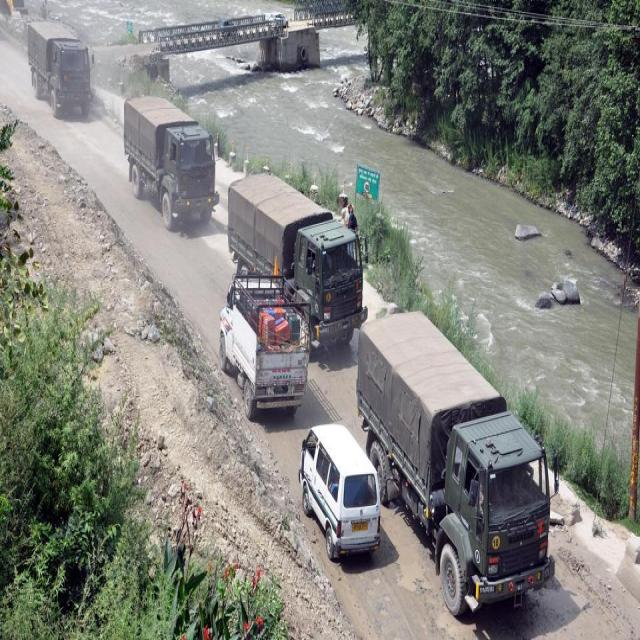car: (299, 424, 380, 560)
truck: (356, 311, 563, 614), (229, 176, 365, 346), (220, 273, 310, 418), (124, 98, 219, 229), (28, 20, 91, 116)
